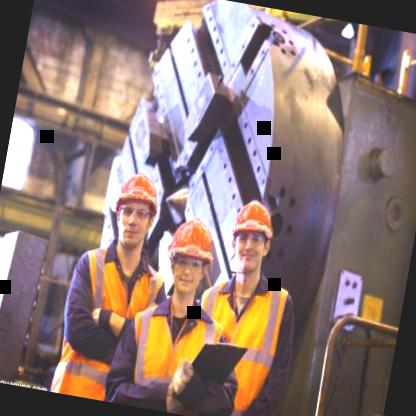helmet: (106, 160, 169, 254), (158, 211, 220, 303), (222, 190, 283, 280)
